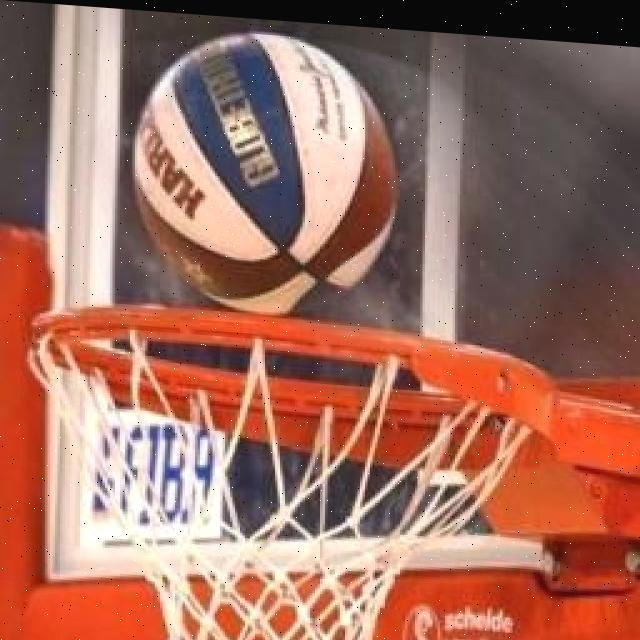rebound_hit: (131, 21, 398, 347)
